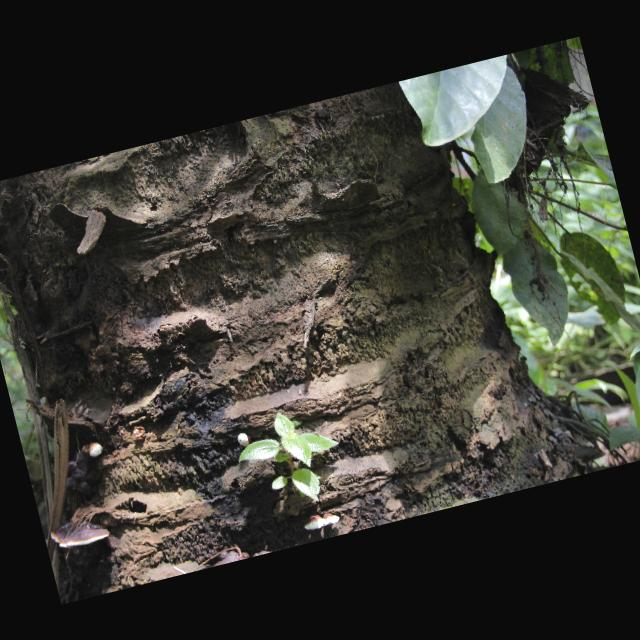ganoderma: (49, 513, 113, 554), (59, 445, 99, 501), (303, 510, 343, 534)
primordium: (87, 441, 106, 459), (237, 432, 253, 450)
